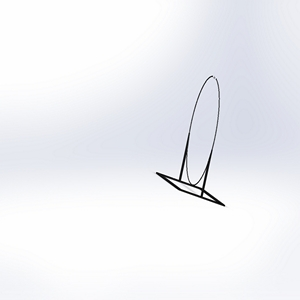circle: (157, 74, 229, 207)
